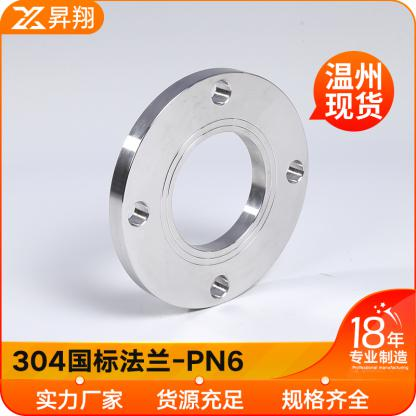FOD: (104, 65, 313, 315)
